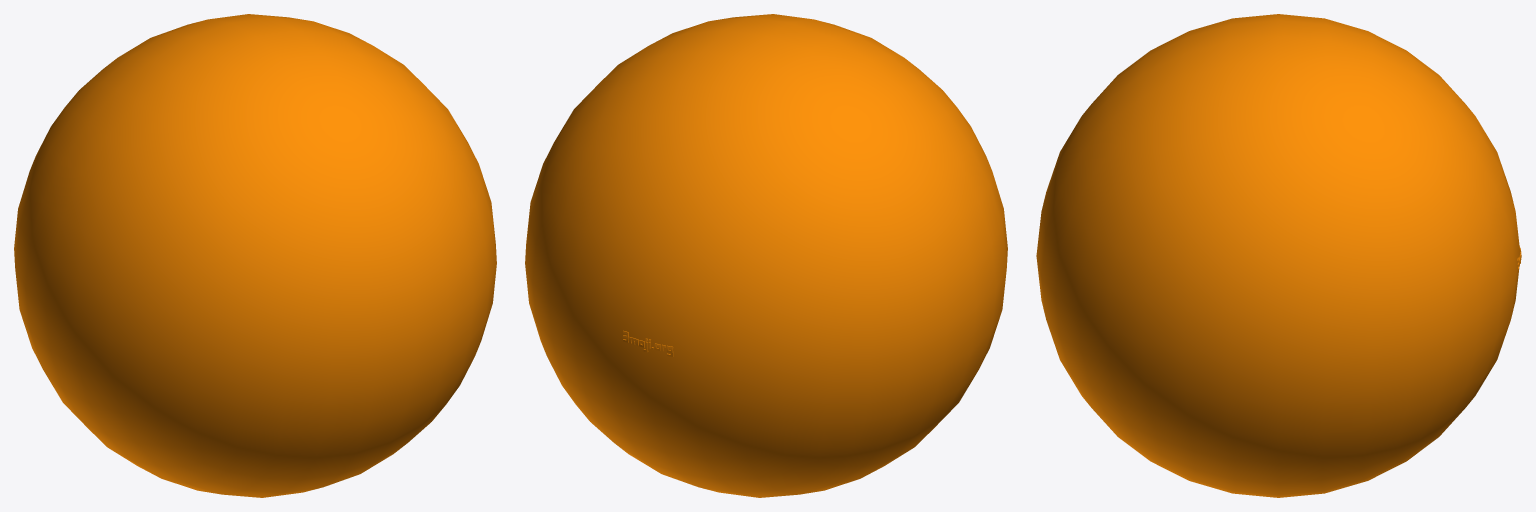
File: orange_circle.fbx
The picture shows the model from 3 angles, left to right: view 1: azimuth 30°, elevation 25°; view 2: azimuth 150°, elevation 25°; view 3: azimuth 270°, elevation 25°; orthographic projection.
Parts seen in each view (by area): view 1: Cube.6663; view 2: Cube.6663; view 3: Cube.6663.
Boxes of the visible parts, bbox=[...] form: Cube.6663: bbox=[14, 14, 496, 497]; Cube.6663: bbox=[525, 14, 1007, 497]; Cube.6663: bbox=[1036, 14, 1521, 497].
Bounding box in the file's own units: 223 × 223 × 223.
1 material, 1 textured.
